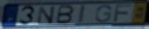3: (17, 5, 37, 26)
B: (55, 5, 75, 24)
F: (113, 3, 134, 23)
G: (94, 4, 113, 23)
I: (77, 4, 87, 24)
N: (37, 5, 56, 25)
